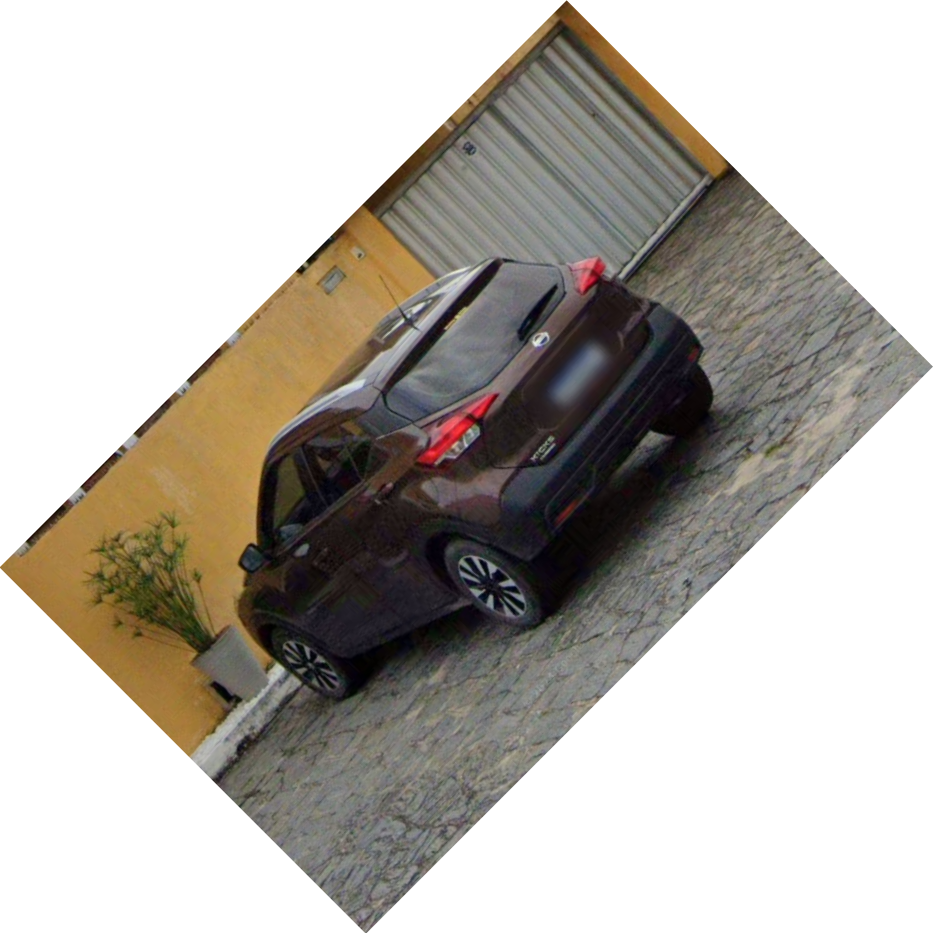car: (230, 255, 715, 703)
